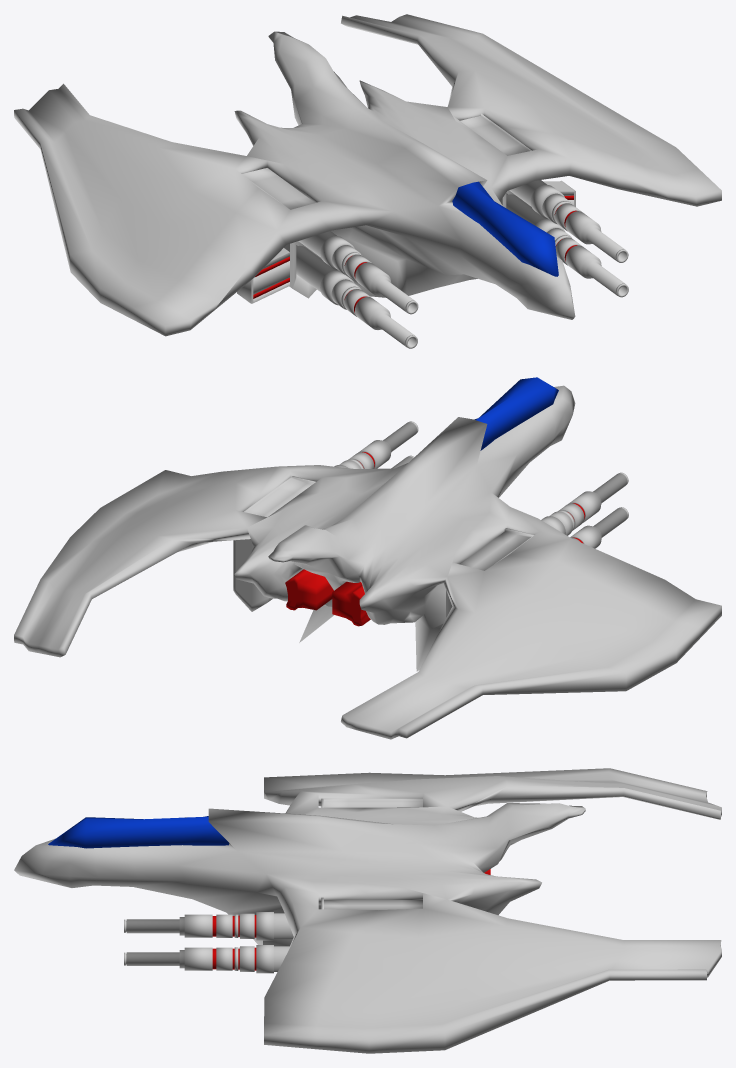
Rendered from roundedship.obj.
3 renders of one model, top to bottom at view 1: azimuth 30°, elevation 25°; view 2: azimuth 150°, elevation 25°; view 3: azimuth 270°, elevation 25°, orthographic. The views are drawn at different scales.
Parts seen in each view (by area): view 1: SHIP_BODY_Cube.004_Material.002_SHIP_BODY_Cube.004_Material.002_, SHIP_BODY_Cube.004_GLASS_SHIP_BODY_Cube.004_GLASS_GLASS, SHIP_BODY_Cube.004_GLOWY_SHIP_BODY_Cube.004_GLOWY_GLOWY; view 2: SHIP_BODY_Cube.004_Material.002_SHIP_BODY_Cube.004_Material.002_, SHIP_BODY_Cube.004_GLOWY_SHIP_BODY_Cube.004_GLOWY_GLOWY, SHIP_BODY_Cube.004_GLASS_SHIP_BODY_Cube.004_GLASS_GLASS; view 3: SHIP_BODY_Cube.004_Material.002_SHIP_BODY_Cube.004_Material.002_, SHIP_BODY_Cube.004_GLASS_SHIP_BODY_Cube.004_GLASS_GLASS, SHIP_BODY_Cube.004_GLOWY_SHIP_BODY_Cube.004_GLOWY_GLOWY.
Part boxes in pixels (x1,y1,x2,y2): SHIP_BODY_Cube.004_Material.002_SHIP_BODY_Cube.004_Material.002_: [14, 14, 721, 348]; SHIP_BODY_Cube.004_GLASS_SHIP_BODY_Cube.004_GLASS_GLASS: [452, 181, 558, 276]; SHIP_BODY_Cube.004_GLOWY_SHIP_BODY_Cube.004_GLOWY_GLOWY: [253, 195, 577, 312]; SHIP_BODY_Cube.004_Material.002_SHIP_BODY_Cube.004_Material.002_: [14, 385, 721, 739]; SHIP_BODY_Cube.004_GLOWY_SHIP_BODY_Cube.004_GLOWY_GLOWY: [285, 452, 585, 626]; SHIP_BODY_Cube.004_GLASS_SHIP_BODY_Cube.004_GLASS_GLASS: [474, 377, 558, 450]; SHIP_BODY_Cube.004_Material.002_SHIP_BODY_Cube.004_Material.002_: [14, 768, 721, 1053]; SHIP_BODY_Cube.004_GLASS_SHIP_BODY_Cube.004_GLASS_GLASS: [48, 816, 228, 848]; SHIP_BODY_Cube.004_GLOWY_SHIP_BODY_Cube.004_GLOWY_GLOWY: [212, 869, 490, 970].
Size of the model in its own units: 16.9 by 4.64 by 18.93.
